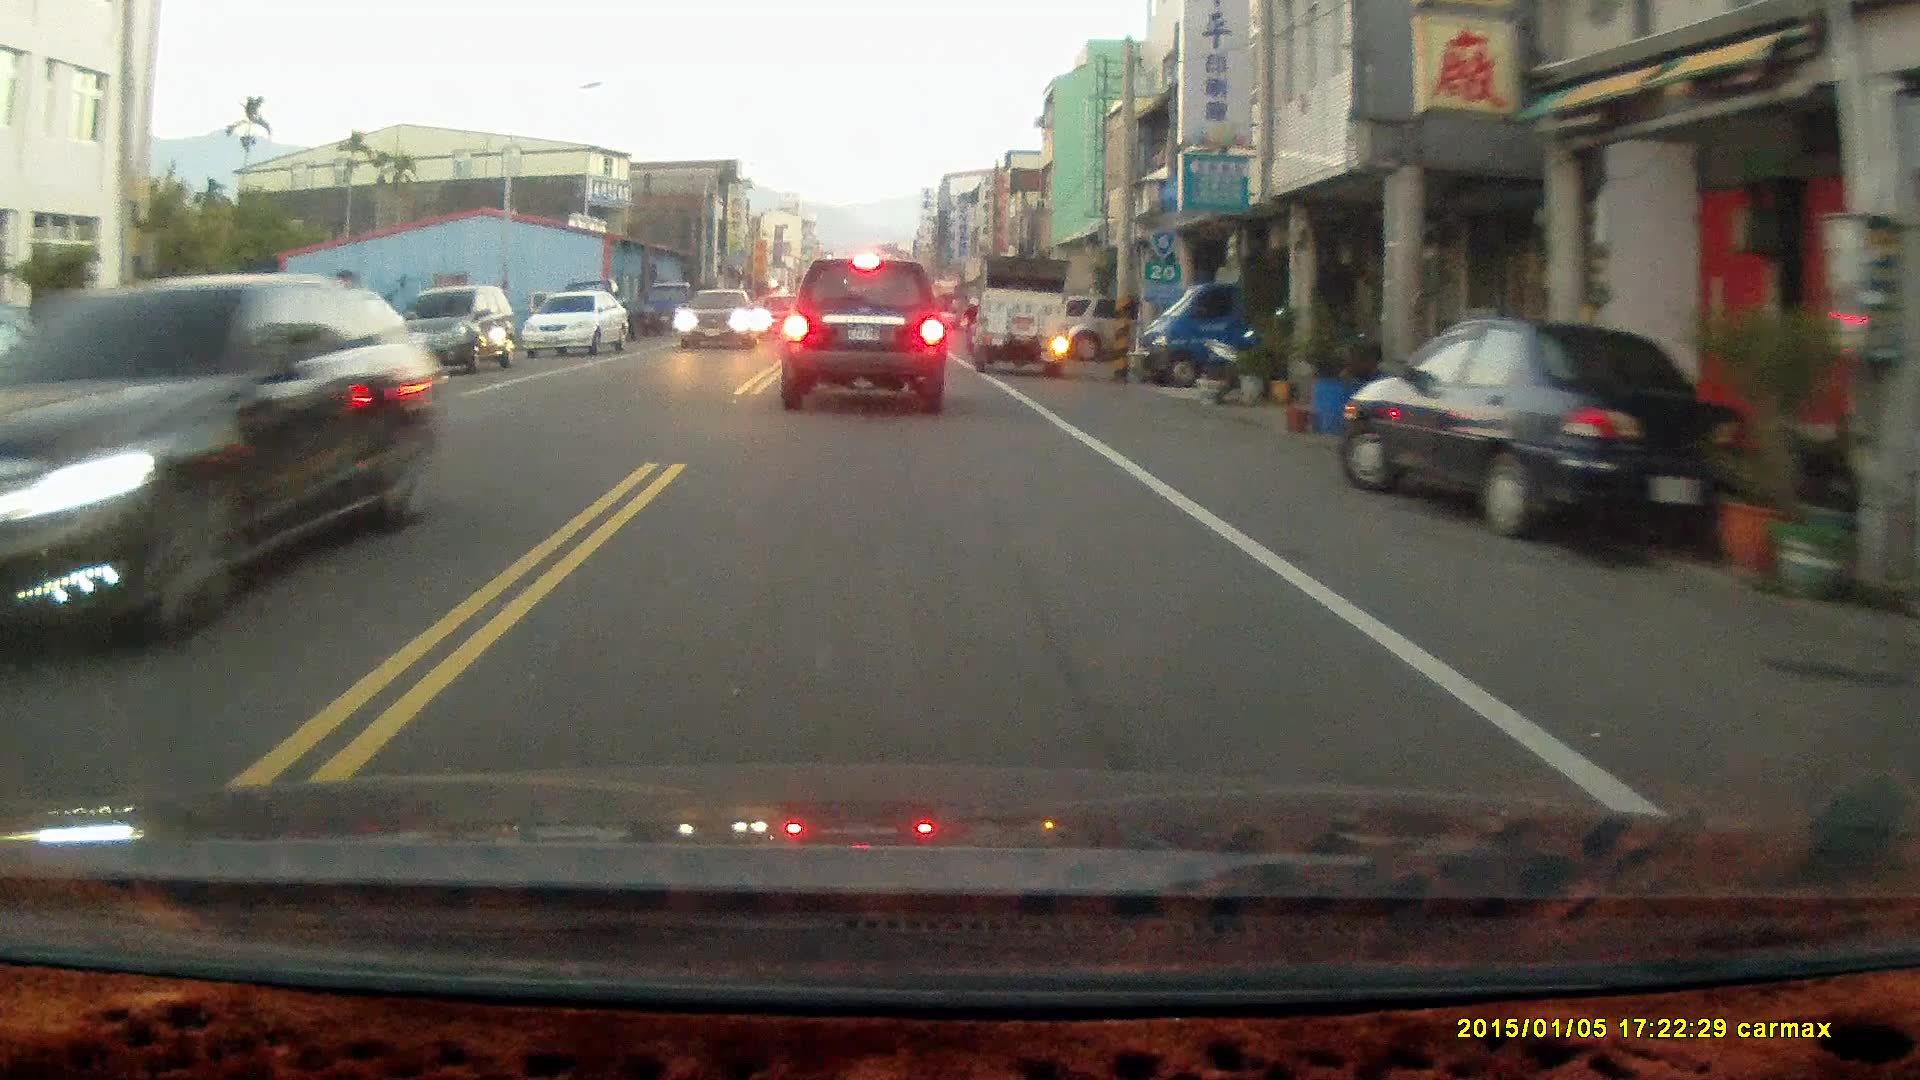vehicle: (1, 272, 452, 671), (1341, 318, 1779, 553), (782, 252, 949, 411), (1129, 257, 1287, 388), (386, 284, 521, 378), (973, 257, 1072, 376), (522, 289, 632, 360), (684, 289, 764, 349), (640, 280, 704, 339)
